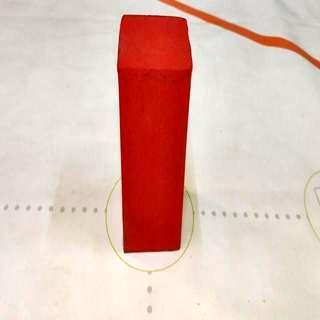redbox: (116, 13, 193, 252)
